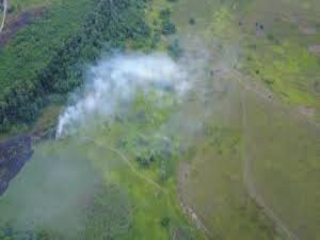smoke: (47, 48, 187, 142)
